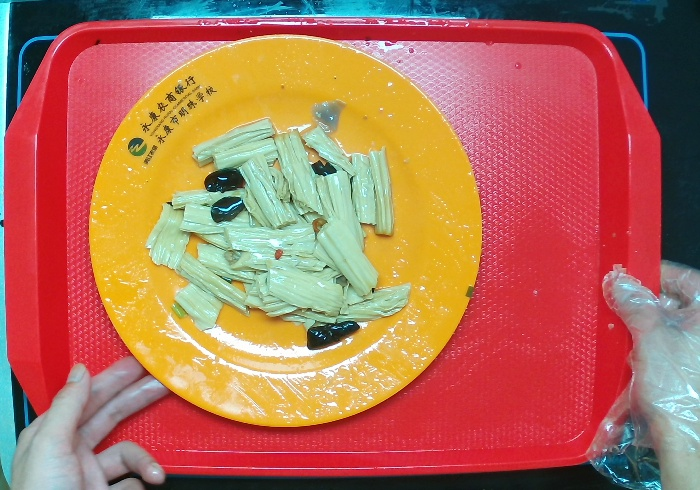YKMZ-Ju_Se_Mian_Pan: (84, 31, 487, 431)
